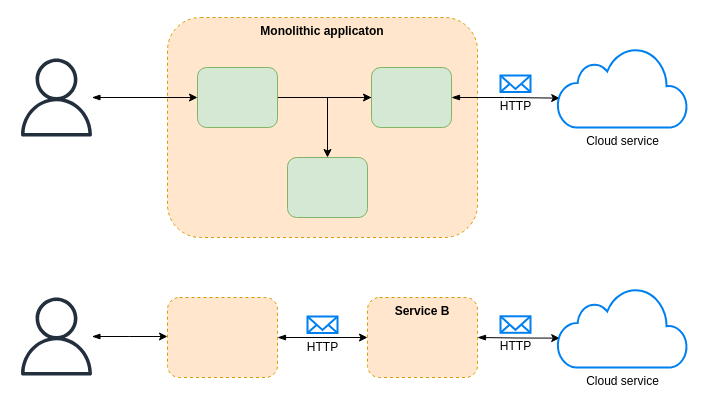
Some shapes in this 705 by 406 pixel diagram are drawn without their labels. The centre of each missing label's shape, as x and y in pixels:
"Class A" belongs at point 237,97.
"Class B" belongs at point 411,97.
"Class C" belongs at point 327,187.
"Service A" belongs at point 222,337.
